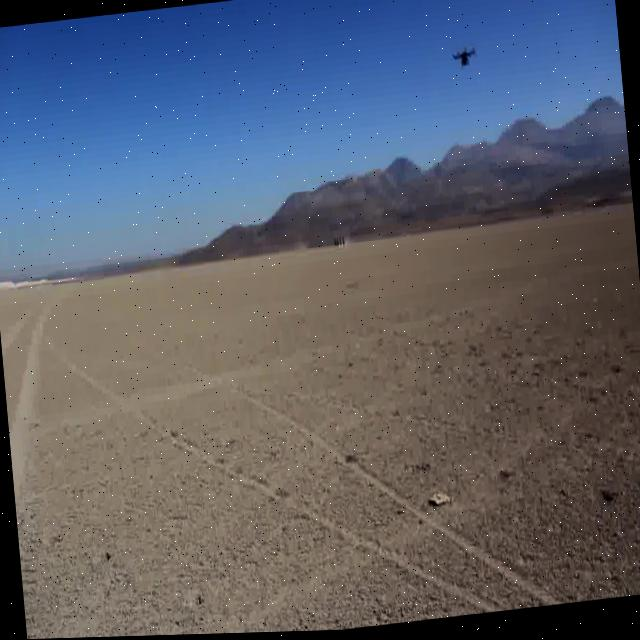drone: (448, 42, 478, 75)
